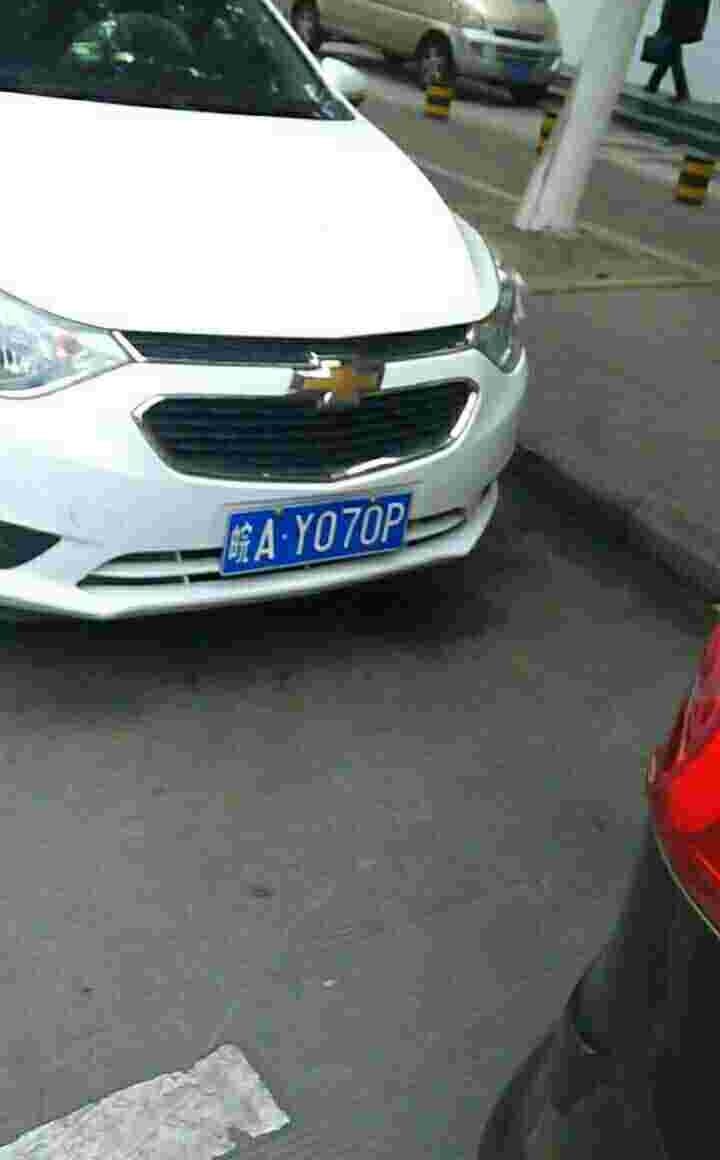license_plate: (230, 486, 412, 578)
